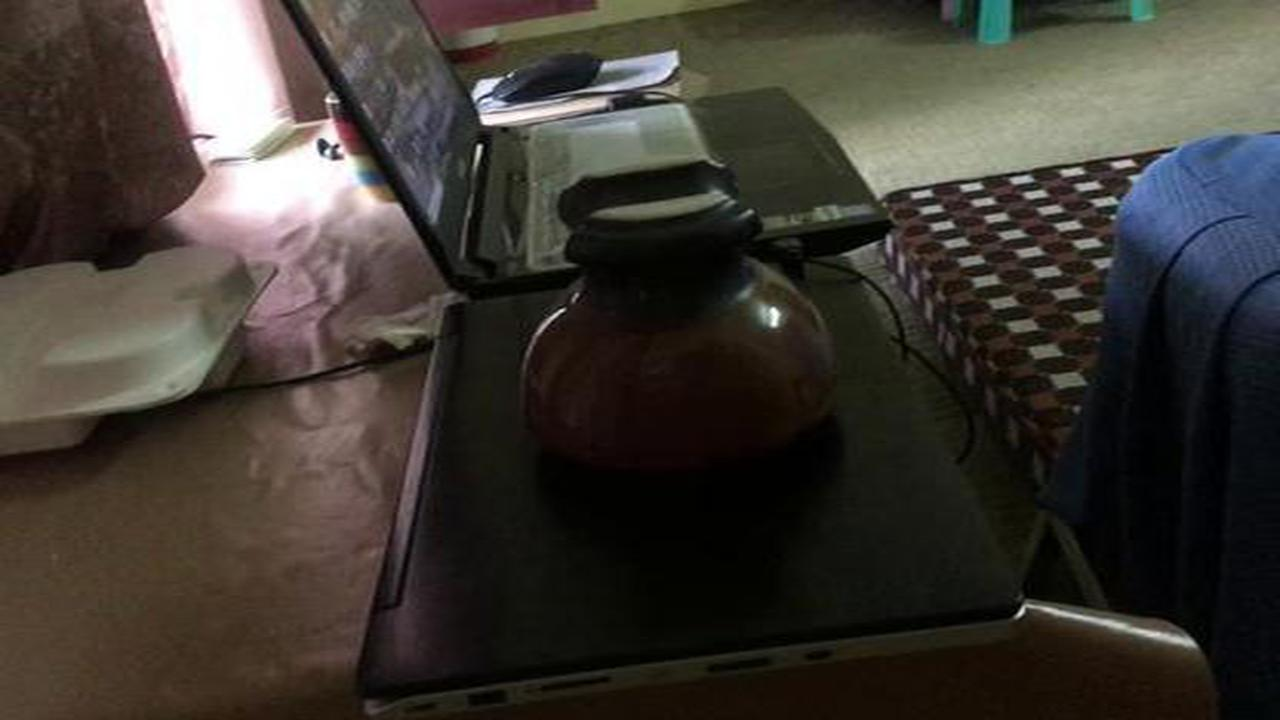insulator_pin: (501, 148, 865, 502)
